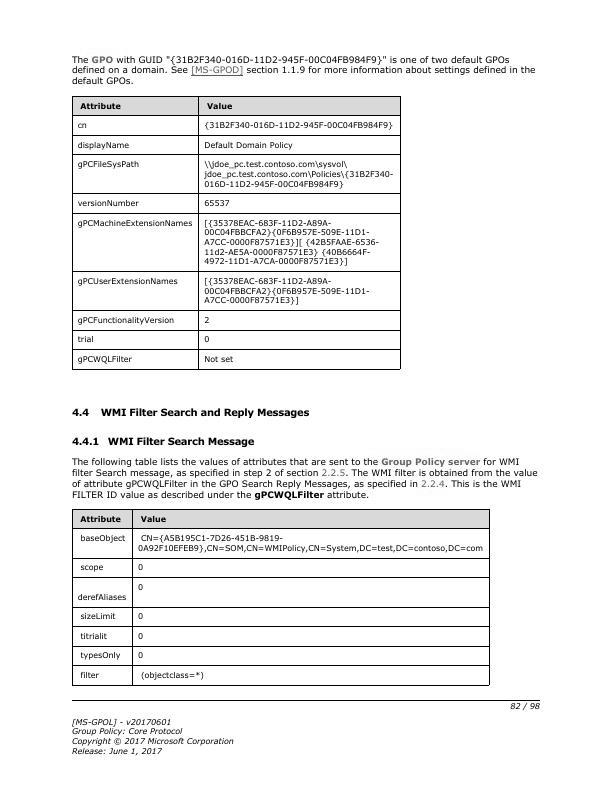table: (71, 95, 403, 372), (71, 507, 493, 686)
text: (69, 455, 540, 502), (69, 53, 538, 88), (71, 714, 236, 760), (68, 406, 311, 422), (68, 434, 255, 448)
